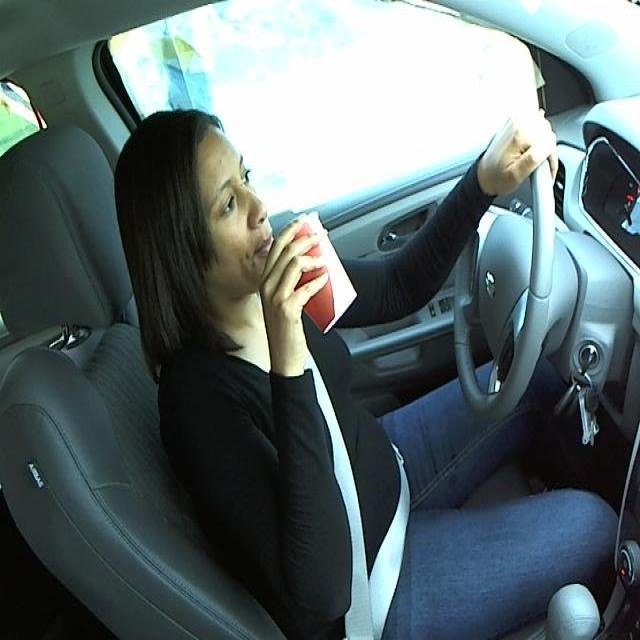drinking: (273, 208, 360, 333)
